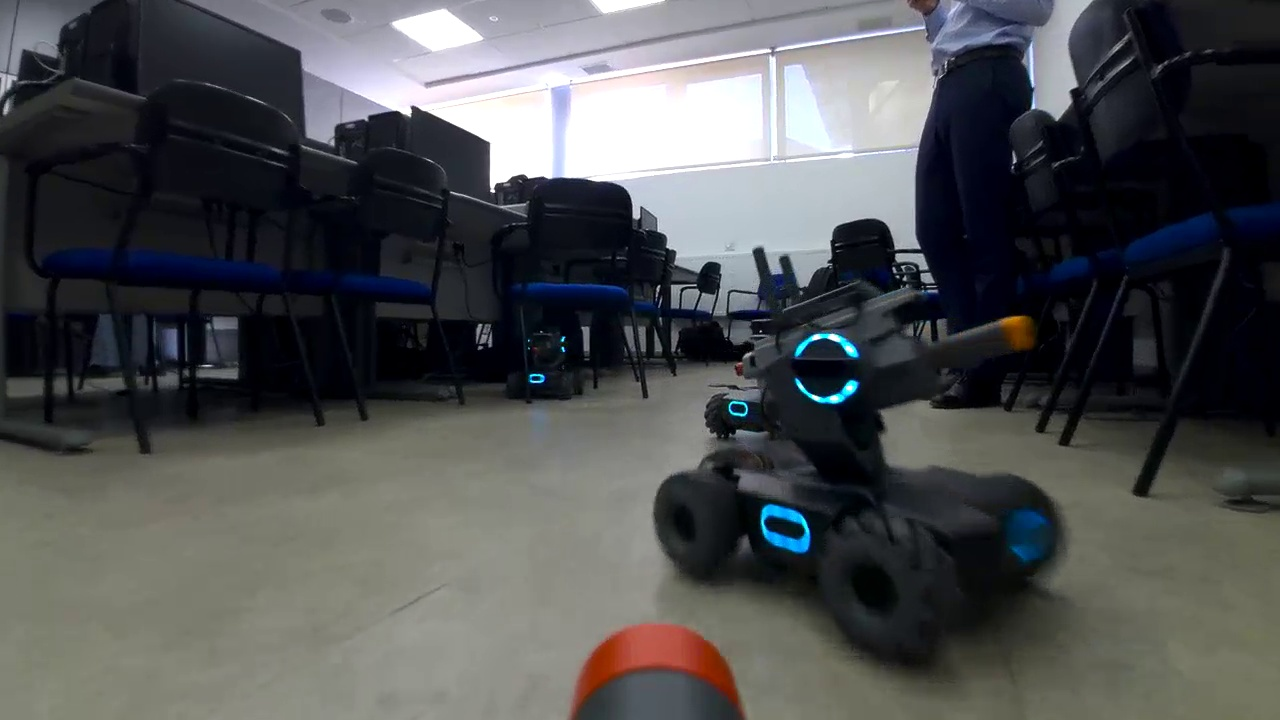robot: (647, 281, 1066, 660), (701, 311, 805, 448), (507, 326, 596, 410)
